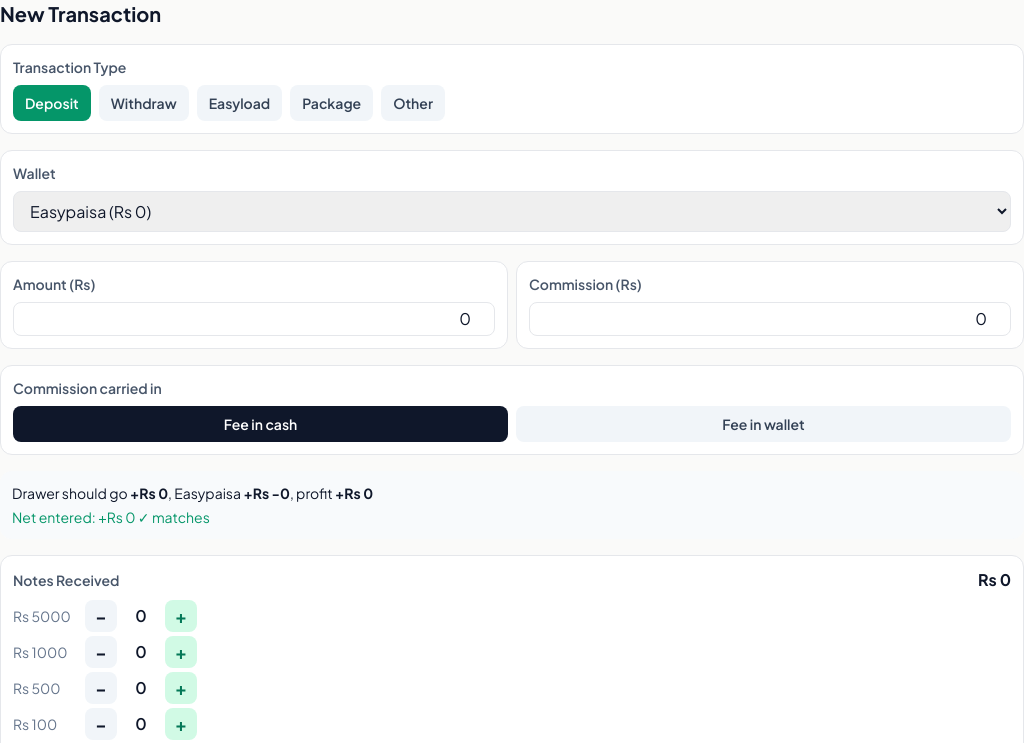
it: NewTransaction — guided form › Other keeps the manual wallet-direction flow
Click the button "Other". click: click(413, 103)
box: [381, 85, 445, 121]
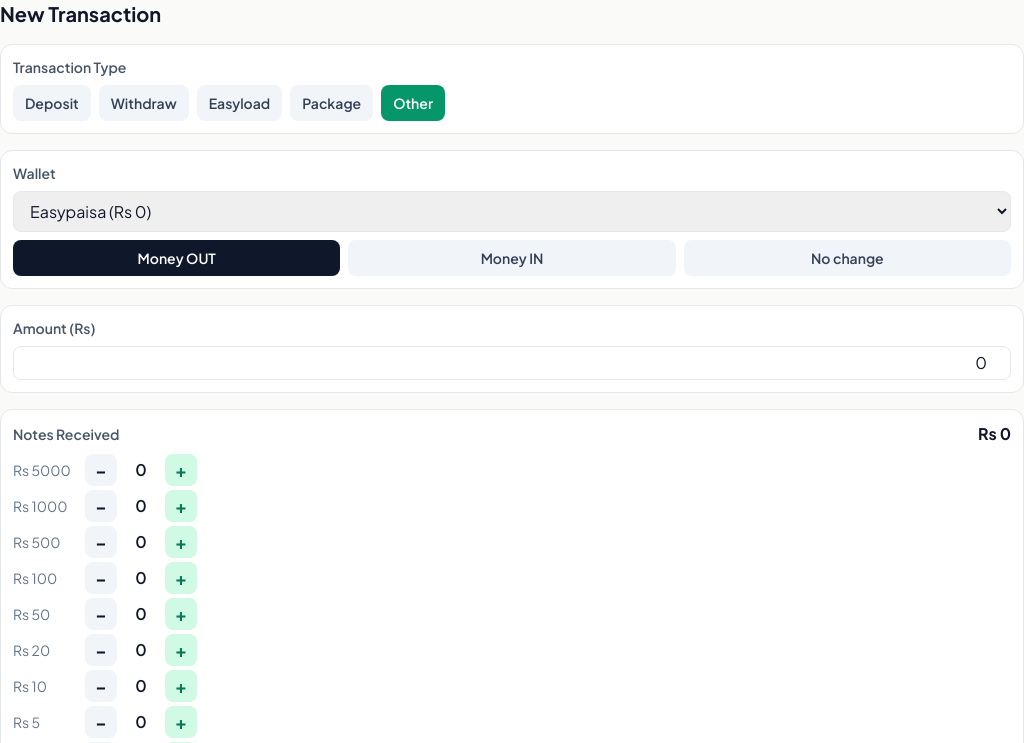
Expected: the button "Money OUT" is shown, [13, 240, 340, 276]
Expected: the button "Money IN" is shown, [348, 240, 676, 276]
